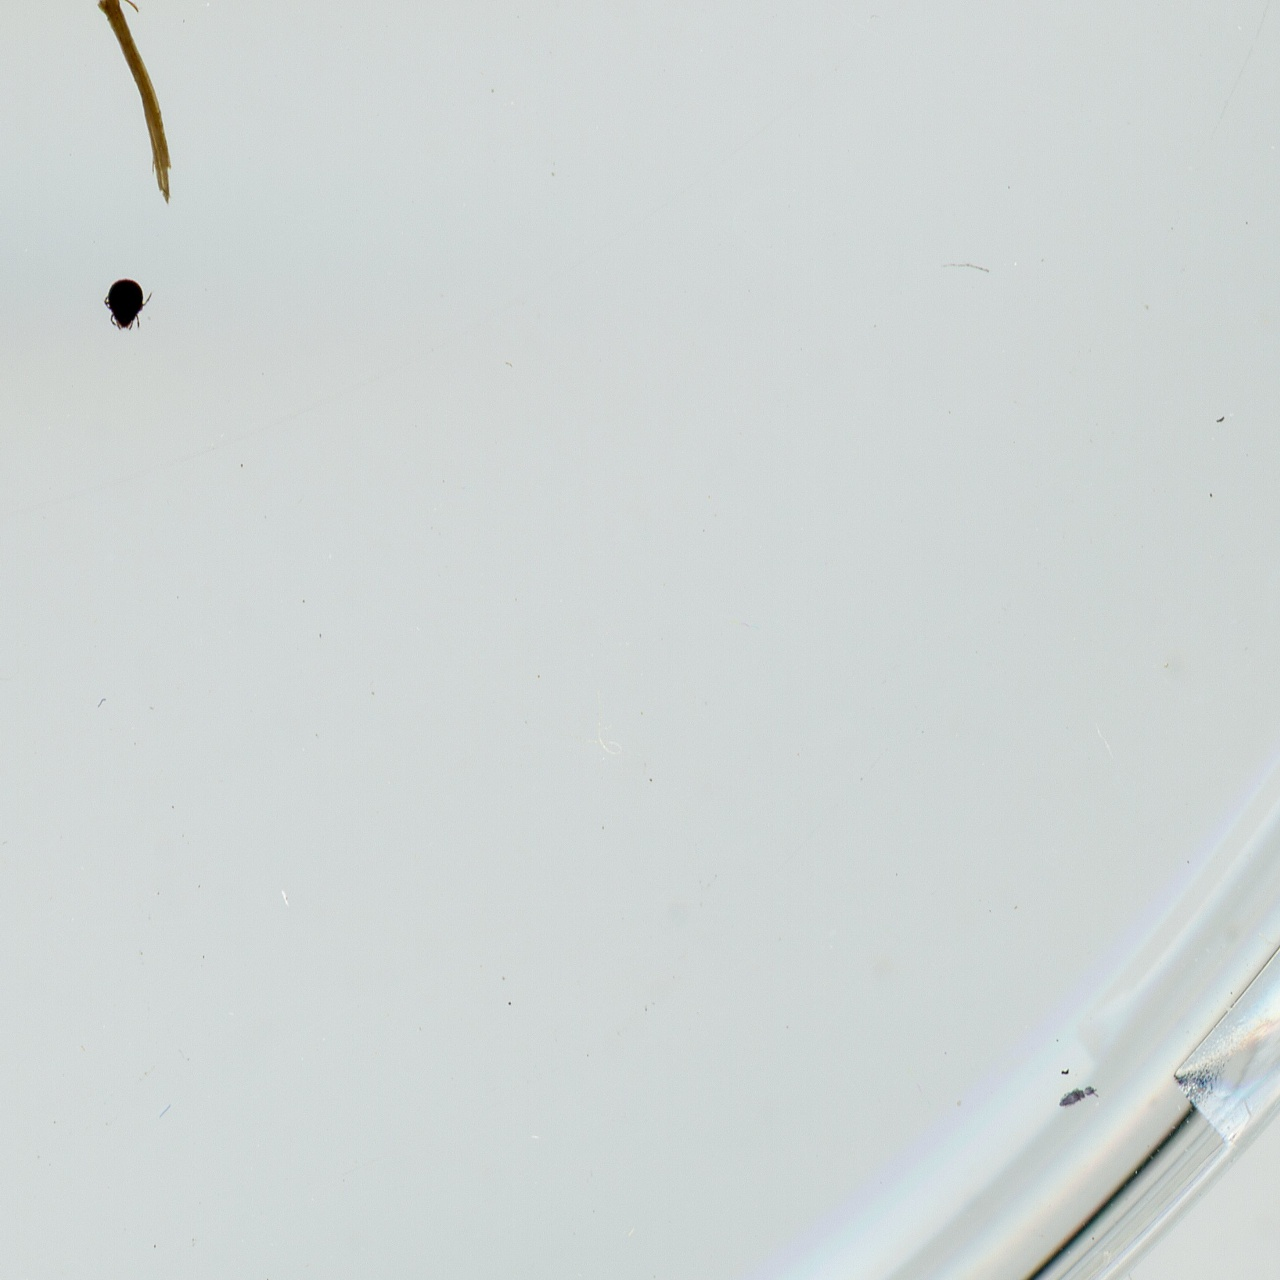arthropod: (101, 273, 158, 332), (1054, 1081, 1101, 1114)
